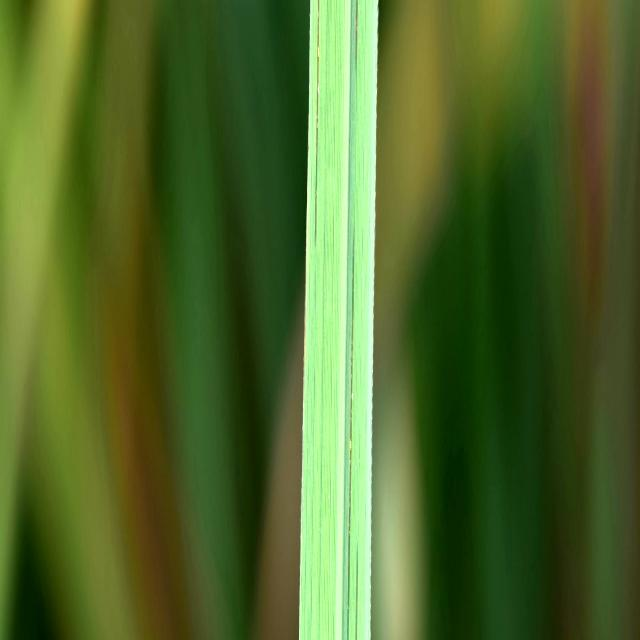BLS: (347, 241, 353, 640), (314, 0, 319, 235), (355, 528, 358, 640)
